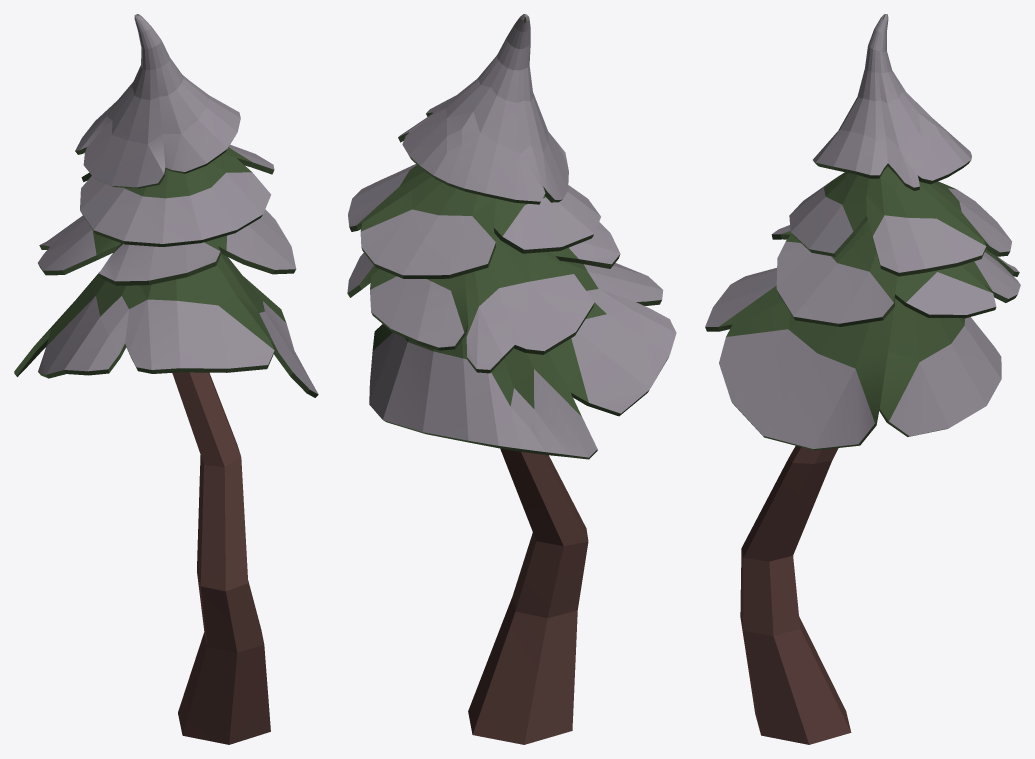
Rendered from Pine_Tree_Snow.glb.
3 renders of one model, left to right at view 1: azimuth 30°, elevation 25°; view 2: azimuth 150°, elevation 25°; view 3: azimuth 270°, elevation 25°, orthographic. The views are drawn at different scales.
Visible parts, largest first — view 1: Pine_Tree_Snow_Merged; view 2: Pine_Tree_Snow_Merged; view 3: Pine_Tree_Snow_Merged.
Part boxes in pixels (x1=…): Pine_Tree_Snow_Merged: x1=14, y1=14, x2=318, y2=744; Pine_Tree_Snow_Merged: x1=347, y1=14, x2=676, y2=744; Pine_Tree_Snow_Merged: x1=705, y1=14, x2=1020, y2=744.
Bounding box in the file's own units: 1.25 × 3.34 × 1.39.
